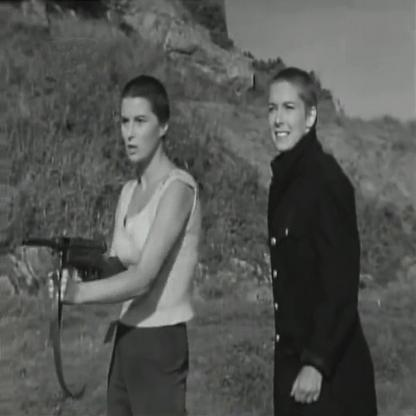gun: (18, 217, 135, 291)
